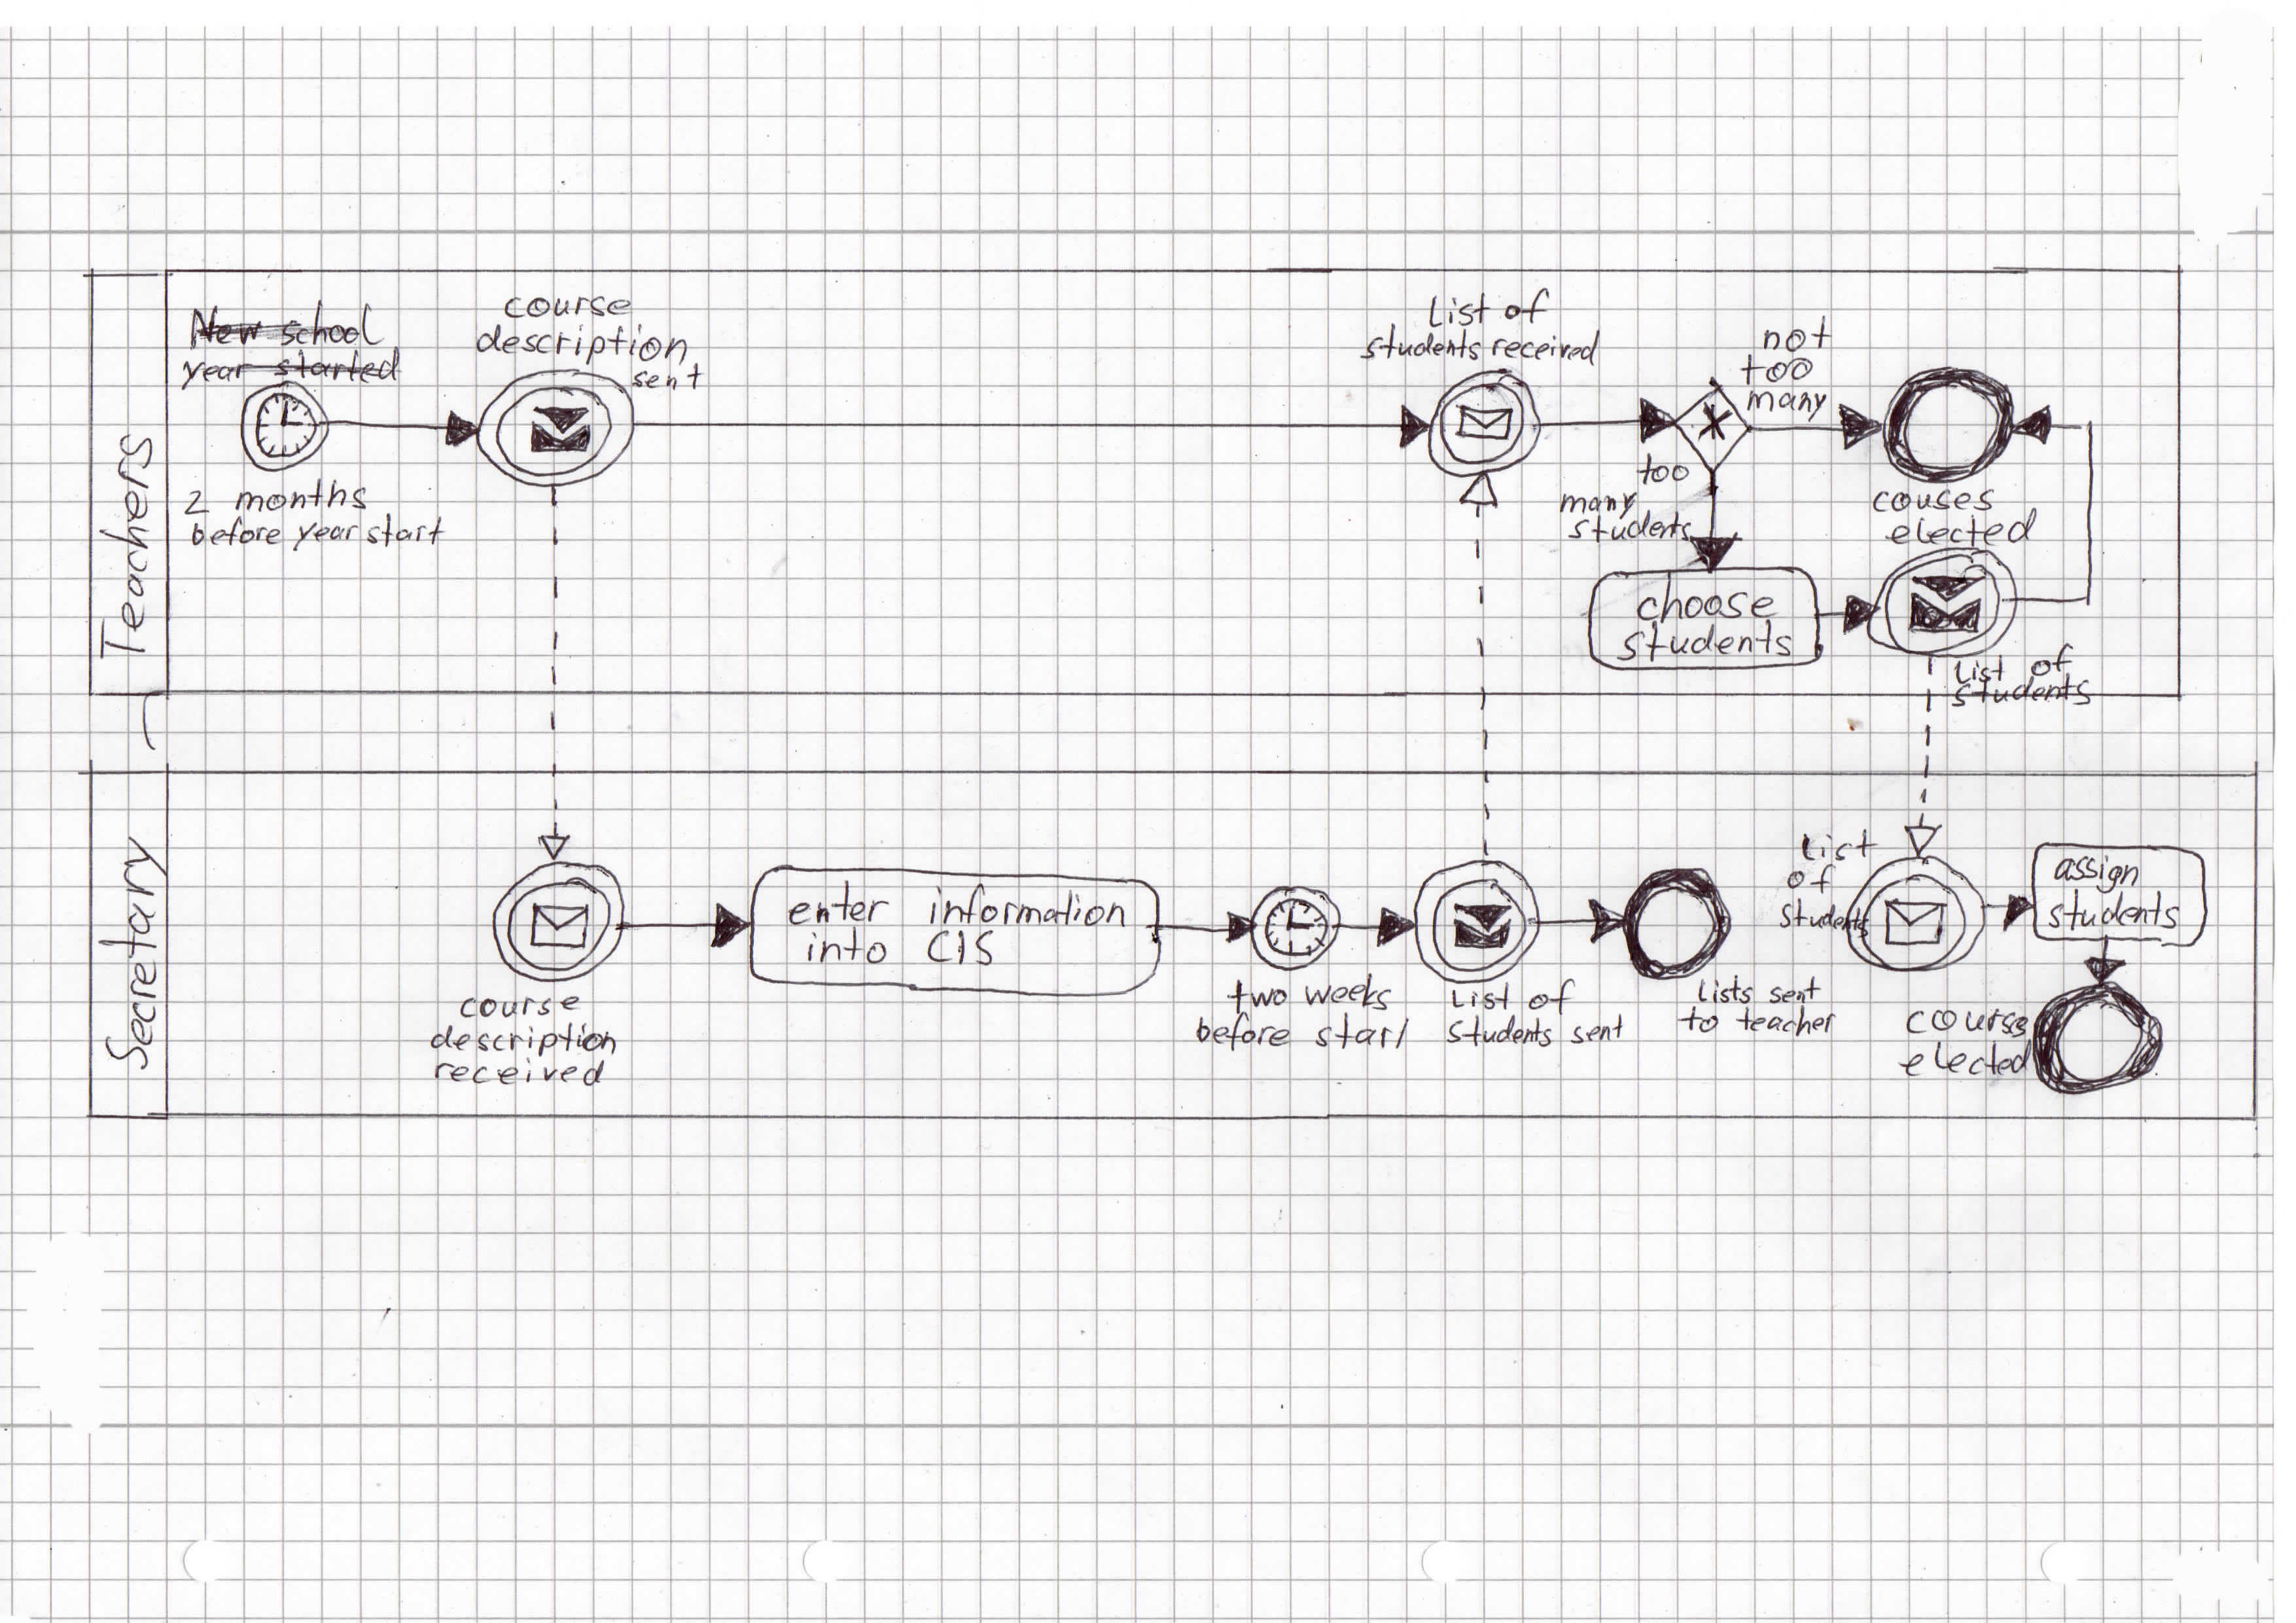2: (181, 491, 212, 517)
CIS: (928, 928, 1000, 964)
Secretary: (101, 835, 166, 1072)
Students: (1783, 893, 1877, 928)
Teachers: (98, 434, 153, 661)
assign: (2053, 856, 2140, 892)
before: (1197, 1011, 1294, 1053), (188, 516, 283, 549)
choose: (1637, 572, 1776, 622)
course: (504, 291, 633, 323), (460, 990, 580, 1020)
courses: (1905, 1006, 2028, 1039)
couses: (1874, 487, 1998, 515)
description: (475, 323, 690, 362), (429, 1022, 617, 1055)
elected: (1887, 510, 2040, 549), (1902, 1040, 2032, 1080)
enter: (786, 879, 889, 926)
information: (930, 882, 1125, 927)
into: (805, 926, 890, 968)
list: (1799, 829, 1877, 862), (1427, 292, 1494, 330), (1449, 983, 1515, 1011), (1956, 655, 2009, 687)
lists: (1697, 973, 1754, 1002)
many: (1744, 390, 1827, 422), (1559, 489, 1636, 520)
months: (232, 477, 371, 515)
not: (1765, 317, 1834, 353)
of: (1529, 981, 1577, 1015), (1505, 287, 1549, 324), (1787, 862, 1837, 893), (2030, 644, 2072, 678)
received: (433, 1055, 605, 1089), (1489, 329, 1600, 364)
sent: (631, 364, 704, 393), (1769, 975, 1822, 1004), (1570, 1017, 1625, 1045)
start: (1312, 1013, 1413, 1050), (365, 514, 448, 550)
students: (1619, 622, 1796, 660), (2047, 889, 2181, 930), (1951, 680, 2093, 712), (1361, 325, 1483, 362), (1443, 1013, 1557, 1049), (1568, 512, 1693, 542)
teacher: (1737, 1008, 1839, 1038)
to: (1681, 1005, 1720, 1033)
too: (1739, 355, 1815, 386), (1636, 455, 1693, 487)
two: (1229, 979, 1288, 1013)
weeks: (1304, 974, 1393, 1013)
year: (295, 515, 356, 551)
